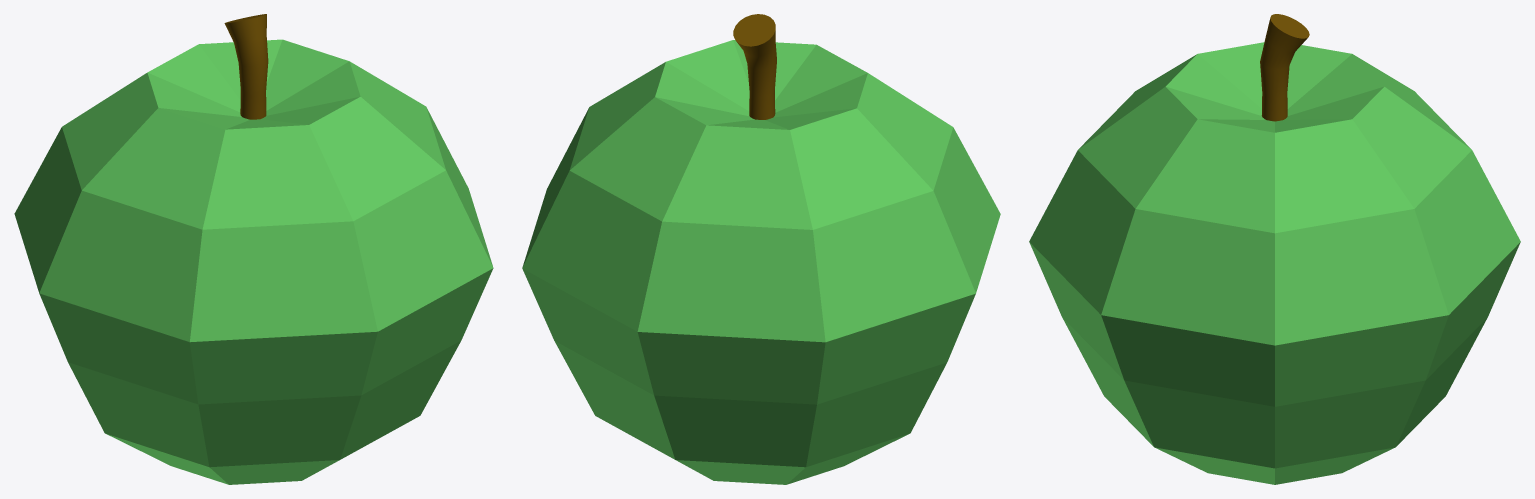
Rendered from GreenApple.fbx.
3 renders of one model, left to right at view 1: azimuth 30°, elevation 25°; view 2: azimuth 150°, elevation 25°; view 3: azimuth 270°, elevation 25°, orthographic.
Parts seen in each view (by area): view 1: pSphere4, pCylinder83; view 2: pSphere4, pCylinder83; view 3: pSphere4, pCylinder83.
Part boxes in pixels (x1=…): pSphere4: x1=14, y1=39, x2=493, y2=484; pCylinder83: x1=224, y1=14, x2=268, y2=119; pSphere4: x1=522, y1=40, x2=1000, y2=484; pCylinder83: x1=733, y1=14, x2=776, y2=119; pSphere4: x1=1029, y1=42, x2=1520, y2=484; pCylinder83: x1=1260, y1=14, x2=1309, y2=121.
Bounding box in the file's own units: 0.1299 × 0.1243 × 0.1299.
